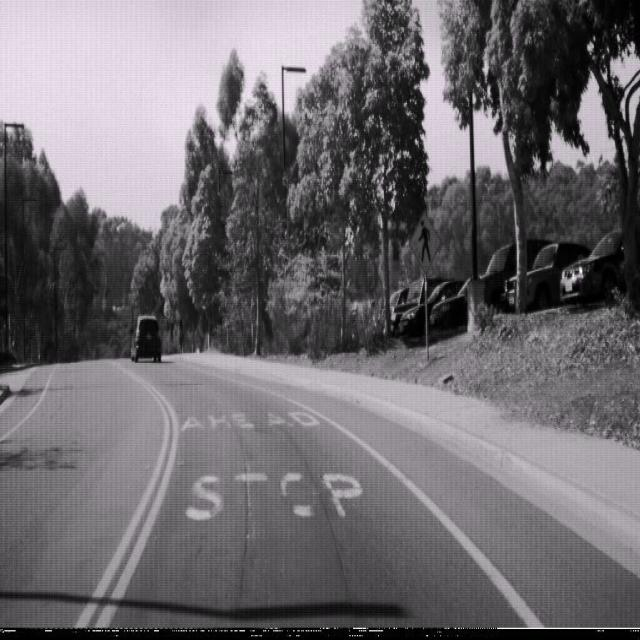pedestrianCrossing: (408, 208, 441, 276)
